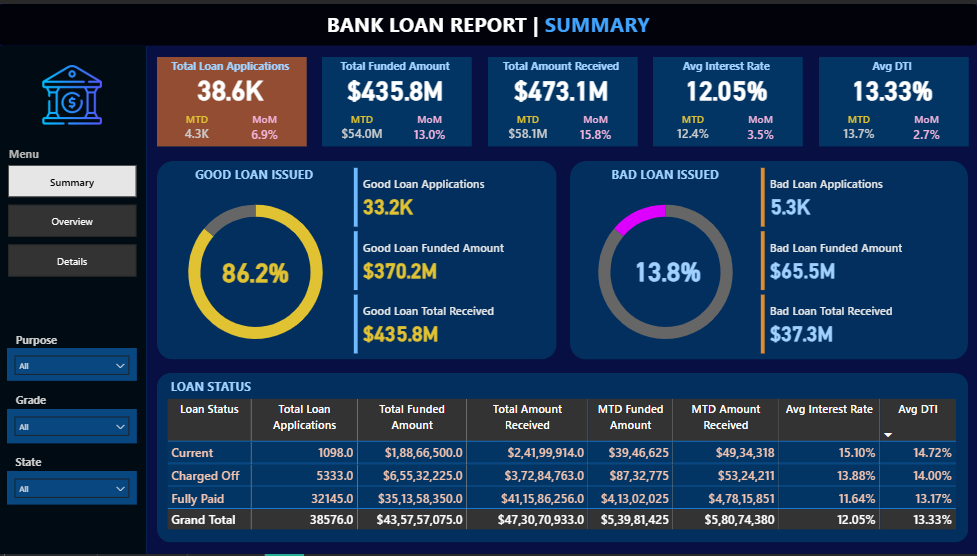

What the dashboard file says about the page in this screenshot:
{"tool":"powerbi","page":{"name":"Summary","canvas":[1280,720],"ordinal":0},"visuals":[{"type":"shape","box":[0,0,1280.5,54.6],"z":0},{"type":"group","id":"g1","title":"Group 1","box":[203.1,69.4,199.4,120.6],"z":0,"group":"g7"},{"type":"group","id":"g2","title":"Group 1","box":[419.5,69.4,199.4,120.6],"z":0,"group":"g8"},{"type":"group","id":"g3","title":"Group 1","box":[636,69.4,199.4,120.6],"z":0,"group":"g9"},{"type":"group","id":"g4","title":"Group 1","box":[852.6,69.4,199.4,120.6],"z":0,"group":"g10"},{"type":"group","id":"g5","title":"Group 1","box":[1069.1,69.4,199.4,120.6],"z":0,"group":"g11"},{"type":"textbox","box":[203.6,67.3,199.3,30.8],"z":1000,"group":"g7"},{"type":"textbox","box":[420,67.3,199.3,30.8],"z":1000,"group":"g8"},{"type":"textbox","box":[636.5,67.3,199.3,30.8],"z":1000,"group":"g9"},{"type":"textbox","box":[853.1,67.3,199.3,30.8],"z":1000,"group":"g10"},{"type":"textbox","box":[1069.6,67.3,199.3,30.8],"z":1000,"group":"g11"},{"type":"shape","box":[206.5,205.3,523.3,259.9],"z":1000},{"type":"textbox","box":[229.2,206.5,210.1,39.2],"z":1000,"group":"g6"},{"type":"textbox","box":[9.6,424.9,79.3,30.1],"z":1000,"group":"g20"},{"type":"textbox","box":[219.5,483.9,210.1,35.5],"z":1000,"group":"g19"},{"type":"textbox","box":[10.3,503.4,62.5,32.4],"z":1000,"group":"g21"},{"type":"textbox","box":[2.1,584.6,71.2,29.7],"z":1000,"group":"g22"},{"type":"shape","box":[747.6,205.3,521,259.9],"z":2000},{"type":"shape","box":[0,54.6,192.9,665.8],"z":3000},{"type":"shape","box":[206.5,69.4,195.9,117.2],"z":3000,"group":"g1"},{"type":"shape","box":[422.9,69.4,195.9,117.2],"z":3000,"group":"g2"},{"type":"shape","box":[639.4,69.4,195.9,117.2],"z":3000,"group":"g3"},{"type":"shape","box":[856,69.4,195.9,117.2],"z":3000,"group":"g4"},{"type":"shape","box":[1072.5,69.4,195.9,117.2],"z":3000,"group":"g5"},{"type":"group","id":"g6","title":"Group 2","box":[229.2,206.5,210.1,39.2],"z":4000},{"type":"textbox","box":[760.7,206.5,223.1,32],"z":5000},{"type":"shape","box":[0,54.9,192.7,665.1],"z":6000},{"type":"textbox","box":[403,2.1,474.5,45.6],"z":7000},{"type":"group","id":"g7","title":"Group 2","box":[203.1,67.3,199.8,122.6],"z":7000,"group":"g12"},{"type":"group","id":"g8","title":"Group 2","box":[419.5,67.3,199.8,122.6],"z":7000,"group":"g13"},{"type":"group","id":"g9","title":"Group 2","box":[636,67.3,199.8,122.6],"z":7000,"group":"g14"},{"type":"group","id":"g10","title":"Group 2","box":[852.6,67.3,199.8,122.6],"z":7000,"group":"g15"},{"type":"group","id":"g11","title":"Group 2","box":[1069.1,67.3,199.8,122.6],"z":7000,"group":"g16"},{"type":"image","box":[10.5,0,65.1,54.6],"z":8000},{"type":"card","fields":{"Values":["financial_loan.Total Loan Applications"]},"box":[203.1,88.3,199.3,45.5],"z":8000,"group":"g1"},{"type":"card","fields":{"Values":["financial_loan.Total Loan Amount"]},"box":[419.5,88.3,199.3,45.5],"z":8000,"group":"g2"},{"type":"card","fields":{"Values":["financial_loan.Total Amount Collection"]},"box":[636,88.3,199.3,45.5],"z":8000,"group":"g3"},{"type":"card","fields":{"Values":["financial_loan.Avg Interest Rate"]},"box":[852.6,88.3,199.3,45.5],"z":8000,"group":"g4"},{"type":"card","fields":{"Values":["financial_loan.Avg DTI"]},"box":[1069.1,88.3,199.3,45.5],"z":8000,"group":"g5"},{"type":"card","title":"MoM","fields":{"Values":["financial_loan.YOY Loan Applications"]},"box":[303.6,141.9,88.1,48.7],"z":8000,"group":"g12"},{"type":"card","title":"MoM","fields":{"Values":["financial_loan.YOY Loan Amount"]},"box":[520,141.9,88.1,48.7],"z":8000,"group":"g13"},{"type":"card","title":"MoM","fields":{"Values":["financial_loan.YOY Loan Collection"]},"box":[736.5,141.9,88.1,48.7],"z":8000,"group":"g14"},{"type":"card","title":"MoM","fields":{"Values":["financial_loan.YOY Int Rate"]},"box":[953.1,141.9,88.1,48.7],"z":8000,"group":"g15"},{"type":"card","title":"MoM","fields":{"Values":["financial_loan.YOY DTI"]},"box":[1169.6,141.9,88.1,48.7],"z":8000,"group":"g16"},{"type":"textbox","box":[69.7,8.1,158,40.7],"z":9000},{"type":"card","title":"MTD","fields":{"Values":["financial_loan.MTD Applications"]},"box":[209.8,142,99.3,48],"z":9000,"group":"g1"},{"type":"card","title":"MTD","fields":{"Values":["financial_loan.MTD Loan Amount"]},"box":[426.2,142,99.3,48],"z":9000,"group":"g2"},{"type":"card","title":"MTD","fields":{"Values":["financial_loan.MTD Loan Collection"]},"box":[642.7,142,99.3,48],"z":9000,"group":"g3"},{"type":"card","title":"MTD","fields":{"Values":["financial_loan.MTD Avg Int Rate"]},"box":[859.3,142,99.3,48],"z":9000,"group":"g4"},{"type":"card","title":"MTD","fields":{"Values":["financial_loan.MTD Avg DTI"]},"box":[1075.8,142,99.3,48],"z":9000,"group":"g5"},{"type":"group","id":"g12","title":"Group 3","box":[203.1,67.3,199.8,123.3],"z":10000},{"type":"group","id":"g13","title":"Group 3","box":[419.5,67.3,199.9,123.3],"z":11000},{"type":"donutChart","fields":{"Y":["financial_loan.Total Loan Applications"],"Category":["financial_loan.Fully Paid Status"]},"box":[211.2,236.2,250,230],"z":11000,"group":"g17"},{"type":"donutChart","fields":{"Y":["financial_loan.Total Loan Applications"],"Category":["financial_loan.Fully Paid Status"]},"box":[747.6,236.2,250,230],"z":11000,"group":"g18"},{"type":"group","id":"g14","title":"Group 3","box":[636,67.3,199.9,123.3],"z":12000},{"type":"card","fields":{"Values":["financial_loan.Good Loan Issued"]},"box":[279.6,318,114,63.2],"z":12000,"group":"g17"},{"type":"card","fields":{"Values":["financial_loan.Bad Loan"]},"box":[816.4,320.5,116.3,57],"z":12000,"group":"g18"},{"type":"group","id":"g15","title":"Group 3","box":[852.6,67.3,199.9,123.3],"z":13000},{"type":"group","id":"g16","title":"Group 3","box":[1069.1,67.3,199.9,123.3],"z":14000},{"type":"group","id":"g17","title":"Group 4","box":[211.2,236.2,250,230],"z":15000},{"type":"group","id":"g18","title":"Group 4","box":[747.6,236.2,250,230],"z":16000},{"type":"shape","box":[206.5,483,1062.1,221.9],"z":17000},{"type":"cardVisual","fields":{"Data":["financial_loan.Good Loan Applications","financial_loan.Good Loan Funded Amount","financial_loan.Good Loan Total Collection"]},"box":[459.3,208.9,265.8,255.1],"z":18000},{"type":"cardVisual","fields":{"Data":["financial_loan.Bad Loan Applications","financial_loan.Bad Loan Funded Amount","financial_loan.Bad Loan Total Collection"]},"box":[992.1,208.9,265.8,255.1],"z":19000},{"type":"tableEx","title":"LOAN ISSUED BY STATUS","fields":{"Values":["financial_loan.loan_status","financial_loan.Total Loan Applications","financial_loan.Total Loan Amount","financial_loan.Total Amount Collection","financial_loan.MTD Loan Amount","financial_loan.MTD Loan Collection","financial_loan.Avg Interest Rate","financial_loan.Avg DTI"]},"box":[214.4,511.8,1046.3,192.7],"z":20000},{"type":"group","id":"g19","title":"Group 2","box":[219.5,483.9,210.1,35.5],"z":21000},{"type":"image","box":[26.8,69.2,138.4,99.3],"z":22000},{"type":"textbox","box":[8.3,180.3,157.5,34.2],"z":23000},{"type":"pageNavigator","box":[11.4,211.4,168.6,147.3],"z":24000},{"type":"slicer","fields":{"Values":["financial_loan.Good v Bad Loan"]},"box":[10.4,450.9,169.7,43],"z":25000},{"type":"slicer","fields":{"Values":["financial_loan.grade"]},"box":[10.7,530.6,169.9,44.5],"z":26000},{"type":"slicer","fields":{"Values":["financial_loan.address_state"]},"box":[10.4,611.2,169.9,43.5],"z":27000},{"type":"group","id":"g20","title":"Group 2","box":[9.6,424.9,79.3,30.1],"z":28000},{"type":"group","id":"g21","title":"Group 2","box":[10.3,503.4,62.5,32.4],"z":29000},{"type":"group","id":"g22","title":"Group 2","box":[2.1,584.6,71.2,29.7],"z":30000}]}

Visuals, with their boxes in screenshot pixels (x1, y1, x2, y2), scaled from the page's 1280x720 canvas onto the 977x556 screenshot:
shape: region(0, 0, 976, 42)
"Group 1" group: region(155, 54, 307, 147)
"Group 1" group: region(320, 54, 472, 147)
"Group 1" group: region(485, 54, 638, 147)
"Group 1" group: region(651, 54, 803, 147)
"Group 1" group: region(816, 54, 968, 147)
textbox: region(155, 52, 308, 76)
textbox: region(321, 52, 473, 76)
textbox: region(486, 52, 638, 76)
textbox: region(651, 52, 803, 76)
textbox: region(816, 52, 969, 76)
shape: region(158, 159, 557, 359)
textbox: region(175, 159, 335, 190)
textbox: region(7, 328, 68, 351)
textbox: region(168, 374, 328, 401)
textbox: region(8, 389, 56, 414)
textbox: region(2, 451, 56, 474)
shape: region(571, 159, 968, 359)
shape: region(0, 42, 147, 555)
shape: region(158, 54, 307, 144)
shape: region(323, 54, 472, 144)
shape: region(488, 54, 638, 144)
shape: region(653, 54, 803, 144)
shape: region(819, 54, 968, 144)
"Group 2" group: region(175, 159, 335, 190)
textbox: region(581, 159, 751, 184)
shape: region(0, 42, 147, 555)
textbox: region(308, 2, 670, 37)
"Group 2" group: region(155, 52, 308, 147)
"Group 2" group: region(320, 52, 473, 147)
"Group 2" group: region(485, 52, 638, 147)
"Group 2" group: region(651, 52, 803, 147)
"Group 2" group: region(816, 52, 969, 147)
image: region(8, 0, 58, 42)
card - financial_loan.Total Loan Applications: region(155, 68, 307, 103)
card - financial_loan.Total Loan Amount: region(320, 68, 472, 103)
card - financial_loan.Total Amount Collection: region(485, 68, 638, 103)
card - financial_loan.Avg Interest Rate: region(651, 68, 803, 103)
card - financial_loan.Avg DTI: region(816, 68, 968, 103)
"MoM" card: region(232, 110, 299, 147)
"MoM" card: region(397, 110, 464, 147)
"MoM" card: region(562, 110, 629, 147)
"MoM" card: region(727, 110, 795, 147)
"MoM" card: region(893, 110, 960, 147)
textbox: region(53, 6, 174, 38)
"MTD" card: region(160, 110, 236, 147)
"MTD" card: region(325, 110, 401, 147)
"MTD" card: region(491, 110, 566, 147)
"MTD" card: region(656, 110, 732, 147)
"MTD" card: region(821, 110, 897, 147)
"Group 3" group: region(155, 52, 308, 147)
"Group 3" group: region(320, 52, 473, 147)
donutChart - financial_loan.Total Loan Applications x financial_loan.Fully Paid Status: region(161, 182, 352, 360)
donutChart - financial_loan.Total Loan Applications x financial_loan.Fully Paid Status: region(571, 182, 761, 360)
"Group 3" group: region(485, 52, 638, 147)
card - financial_loan.Good Loan Issued: region(213, 246, 300, 294)
card - financial_loan.Bad Loan: region(623, 247, 712, 292)
"Group 3" group: region(651, 52, 803, 147)
"Group 3" group: region(816, 52, 969, 147)
"Group 4" group: region(161, 182, 352, 360)
"Group 4" group: region(571, 182, 761, 360)
shape: region(158, 373, 968, 544)
cardVisual - financial_loan.Good Loan Applications x financial_loan.Good Loan Funded Amount: region(351, 161, 553, 358)
cardVisual - financial_loan.Bad Loan Applications x financial_loan.Bad Loan Funded Amount: region(757, 161, 960, 358)
"LOAN ISSUED BY STATUS" tableEx: region(164, 395, 962, 544)
"Group 2" group: region(168, 374, 328, 401)
image: region(20, 53, 126, 130)
textbox: region(6, 139, 127, 166)
pageNavigator: region(9, 163, 137, 277)
slicer - financial_loan.Good v Bad Loan: region(8, 348, 137, 381)
slicer - financial_loan.grade: region(8, 410, 138, 444)
slicer - financial_loan.address_state: region(8, 472, 138, 506)
"Group 2" group: region(7, 328, 68, 351)
"Group 2" group: region(8, 389, 56, 414)
"Group 2" group: region(2, 451, 56, 474)
